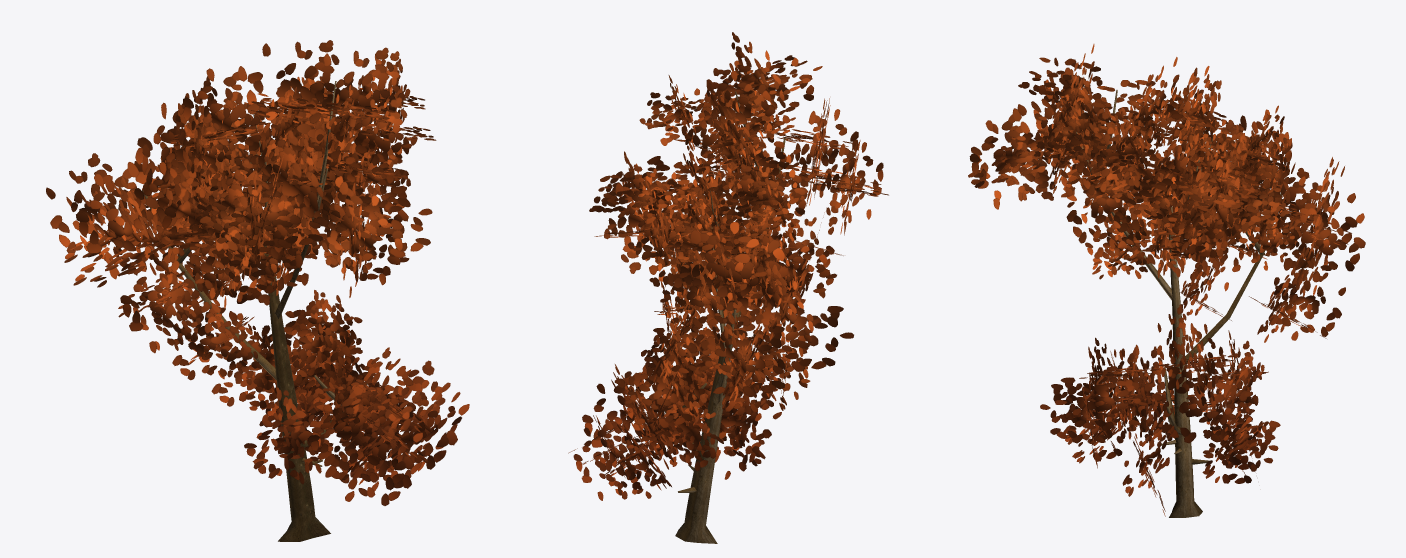
File: env_tree_autumn_mature_02.glb
3 views of the same model, side by side, from view 1: azimuth 30°, elevation 25°; view 2: azimuth 150°, elevation 25°; view 3: azimuth 270°, elevation 25° (orthographic). The views are drawn at different scales.
Parts seen in each view (by area): view 1: tree_autumn_mature_02; view 2: tree_autumn_mature_02; view 3: tree_autumn_mature_02.
Boxes of the visible parts, box(x1,y1,x2,y2) form: tree_autumn_mature_02: box(46, 40, 469, 541); tree_autumn_mature_02: box(568, 32, 888, 543); tree_autumn_mature_02: box(968, 44, 1365, 517).
Size of the model in its own units: 8.11 by 10.4 by 8.75.
Materials: 2 (2 with a texture image).
